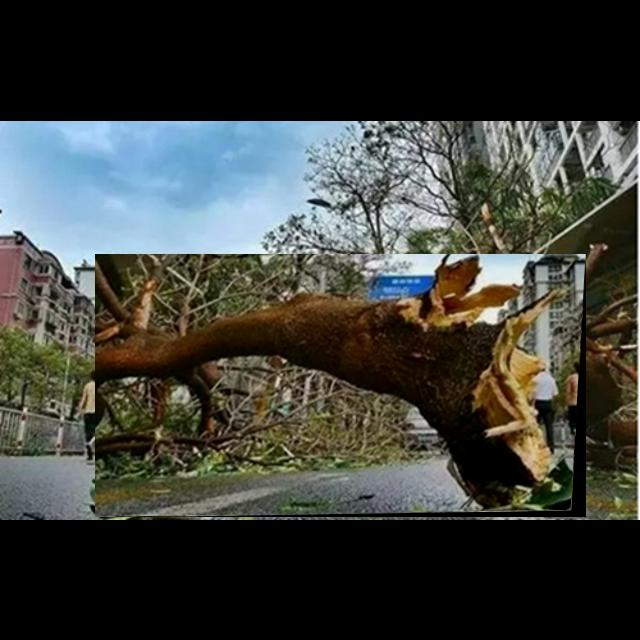Fallen Tree: (95, 254, 587, 518)
